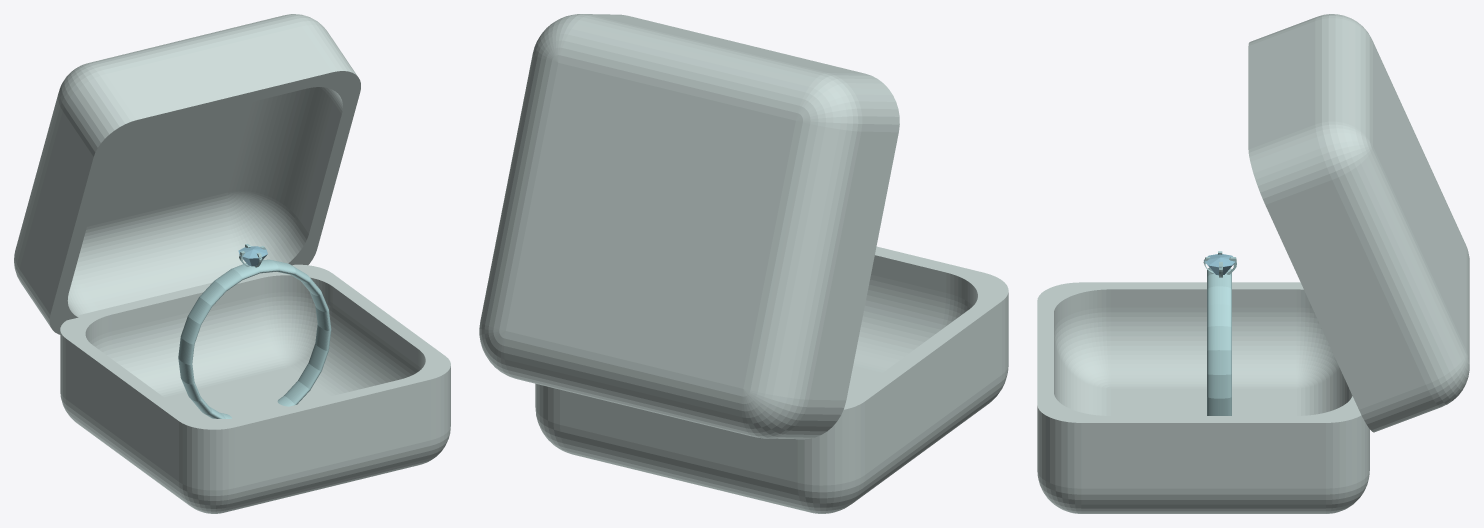
The model's file is tinker.glb.
3 views of the same model, side by side, from view 1: azimuth 30°, elevation 25°; view 2: azimuth 150°, elevation 25°; view 3: azimuth 270°, elevation 25° (orthographic). The views are drawn at different scales.
Parts seen in each view (by area): view 1: Mesh_Mesh_head_geo.001_lambert2SG.001; view 2: Mesh_Mesh_head_geo.001_lambert2SG.001; view 3: Mesh_Mesh_head_geo.001_lambert2SG.001.
Boxes of the visible parts, left/top/right/bottom form: Mesh_Mesh_head_geo.001_lambert2SG.001: left=14, top=14, right=450, bottom=513; Mesh_Mesh_head_geo.001_lambert2SG.001: left=479, top=14, right=1008, bottom=513; Mesh_Mesh_head_geo.001_lambert2SG.001: left=1037, top=14, right=1469, bottom=513.
Size of the model in its own units: 20 by 25.76 by 26.
